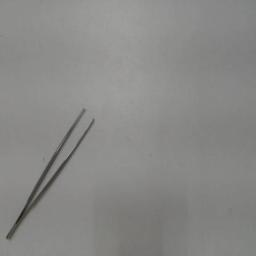Gillies Toothed Dissector: (2, 104, 102, 248)
